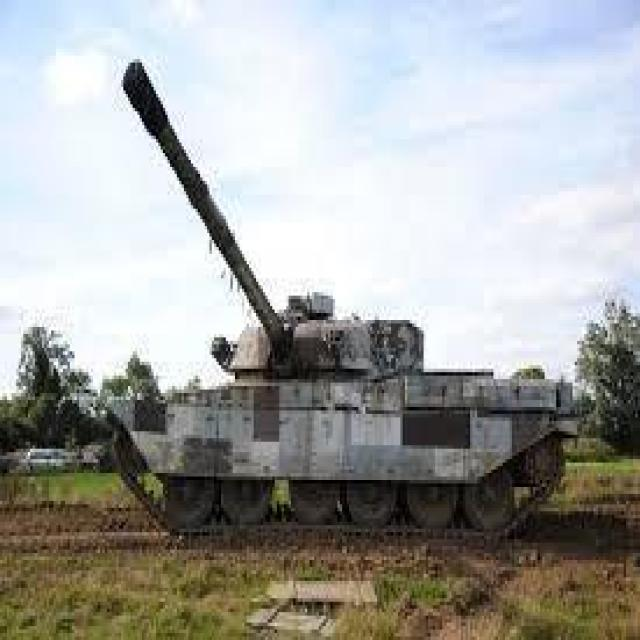Tanks: (62, 4, 569, 608)
